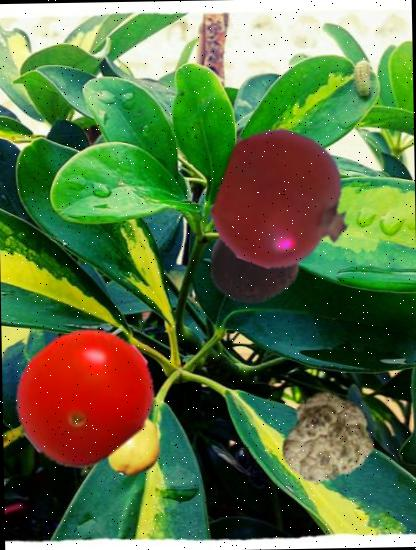Cauliflower: (277, 390, 374, 487)
Chestnut: (208, 211, 302, 306)
Quince: (104, 414, 168, 478)
Redcurrant: (213, 132, 354, 272)
Tomato: (12, 324, 156, 468)
